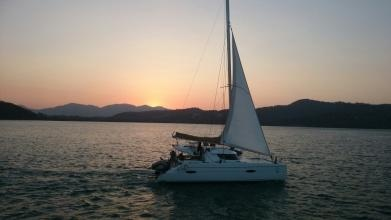fanchuan: (151, 1, 286, 186)
